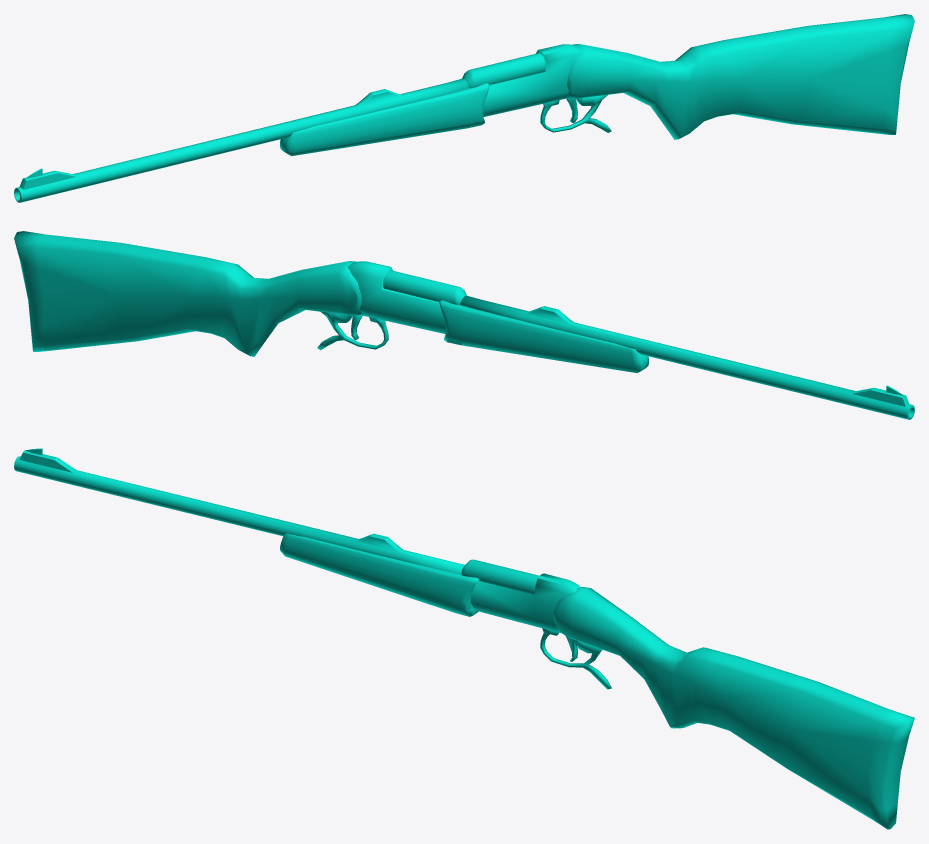
Rendered from livingroom_Firegun.fbx.
The picture shows the model from 3 angles, top to bottom: view 1: azimuth 30°, elevation 25°; view 2: azimuth 150°, elevation 25°; view 3: azimuth 330°, elevation 25°; orthographic projection.
Parts seen in each view (by area): view 1: livingroom_firegun; view 2: livingroom_firegun; view 3: livingroom_firegun.
Part boxes in pixels (<box>): livingroom_firegun: <box>14,14,914,202</box>; livingroom_firegun: <box>14,231,914,419</box>; livingroom_firegun: <box>14,448,914,829</box>.
Bounding box in the file's own units: 5.56 × 1.03 × 0.2059.
